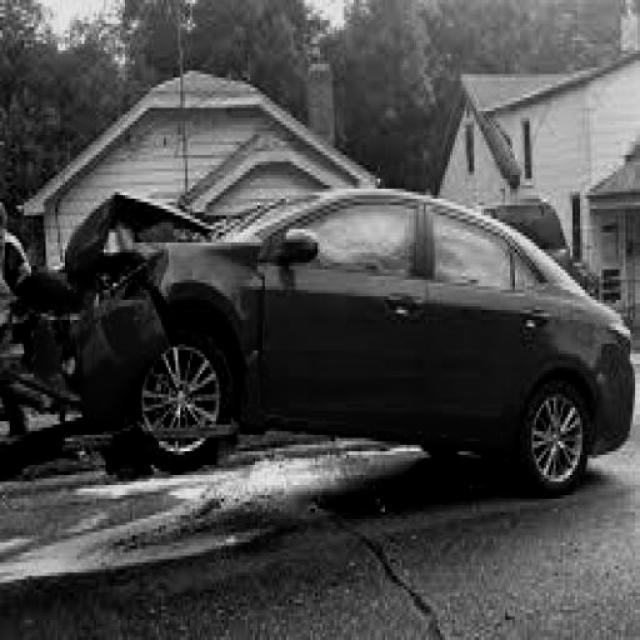car damage: (14, 182, 269, 436)
